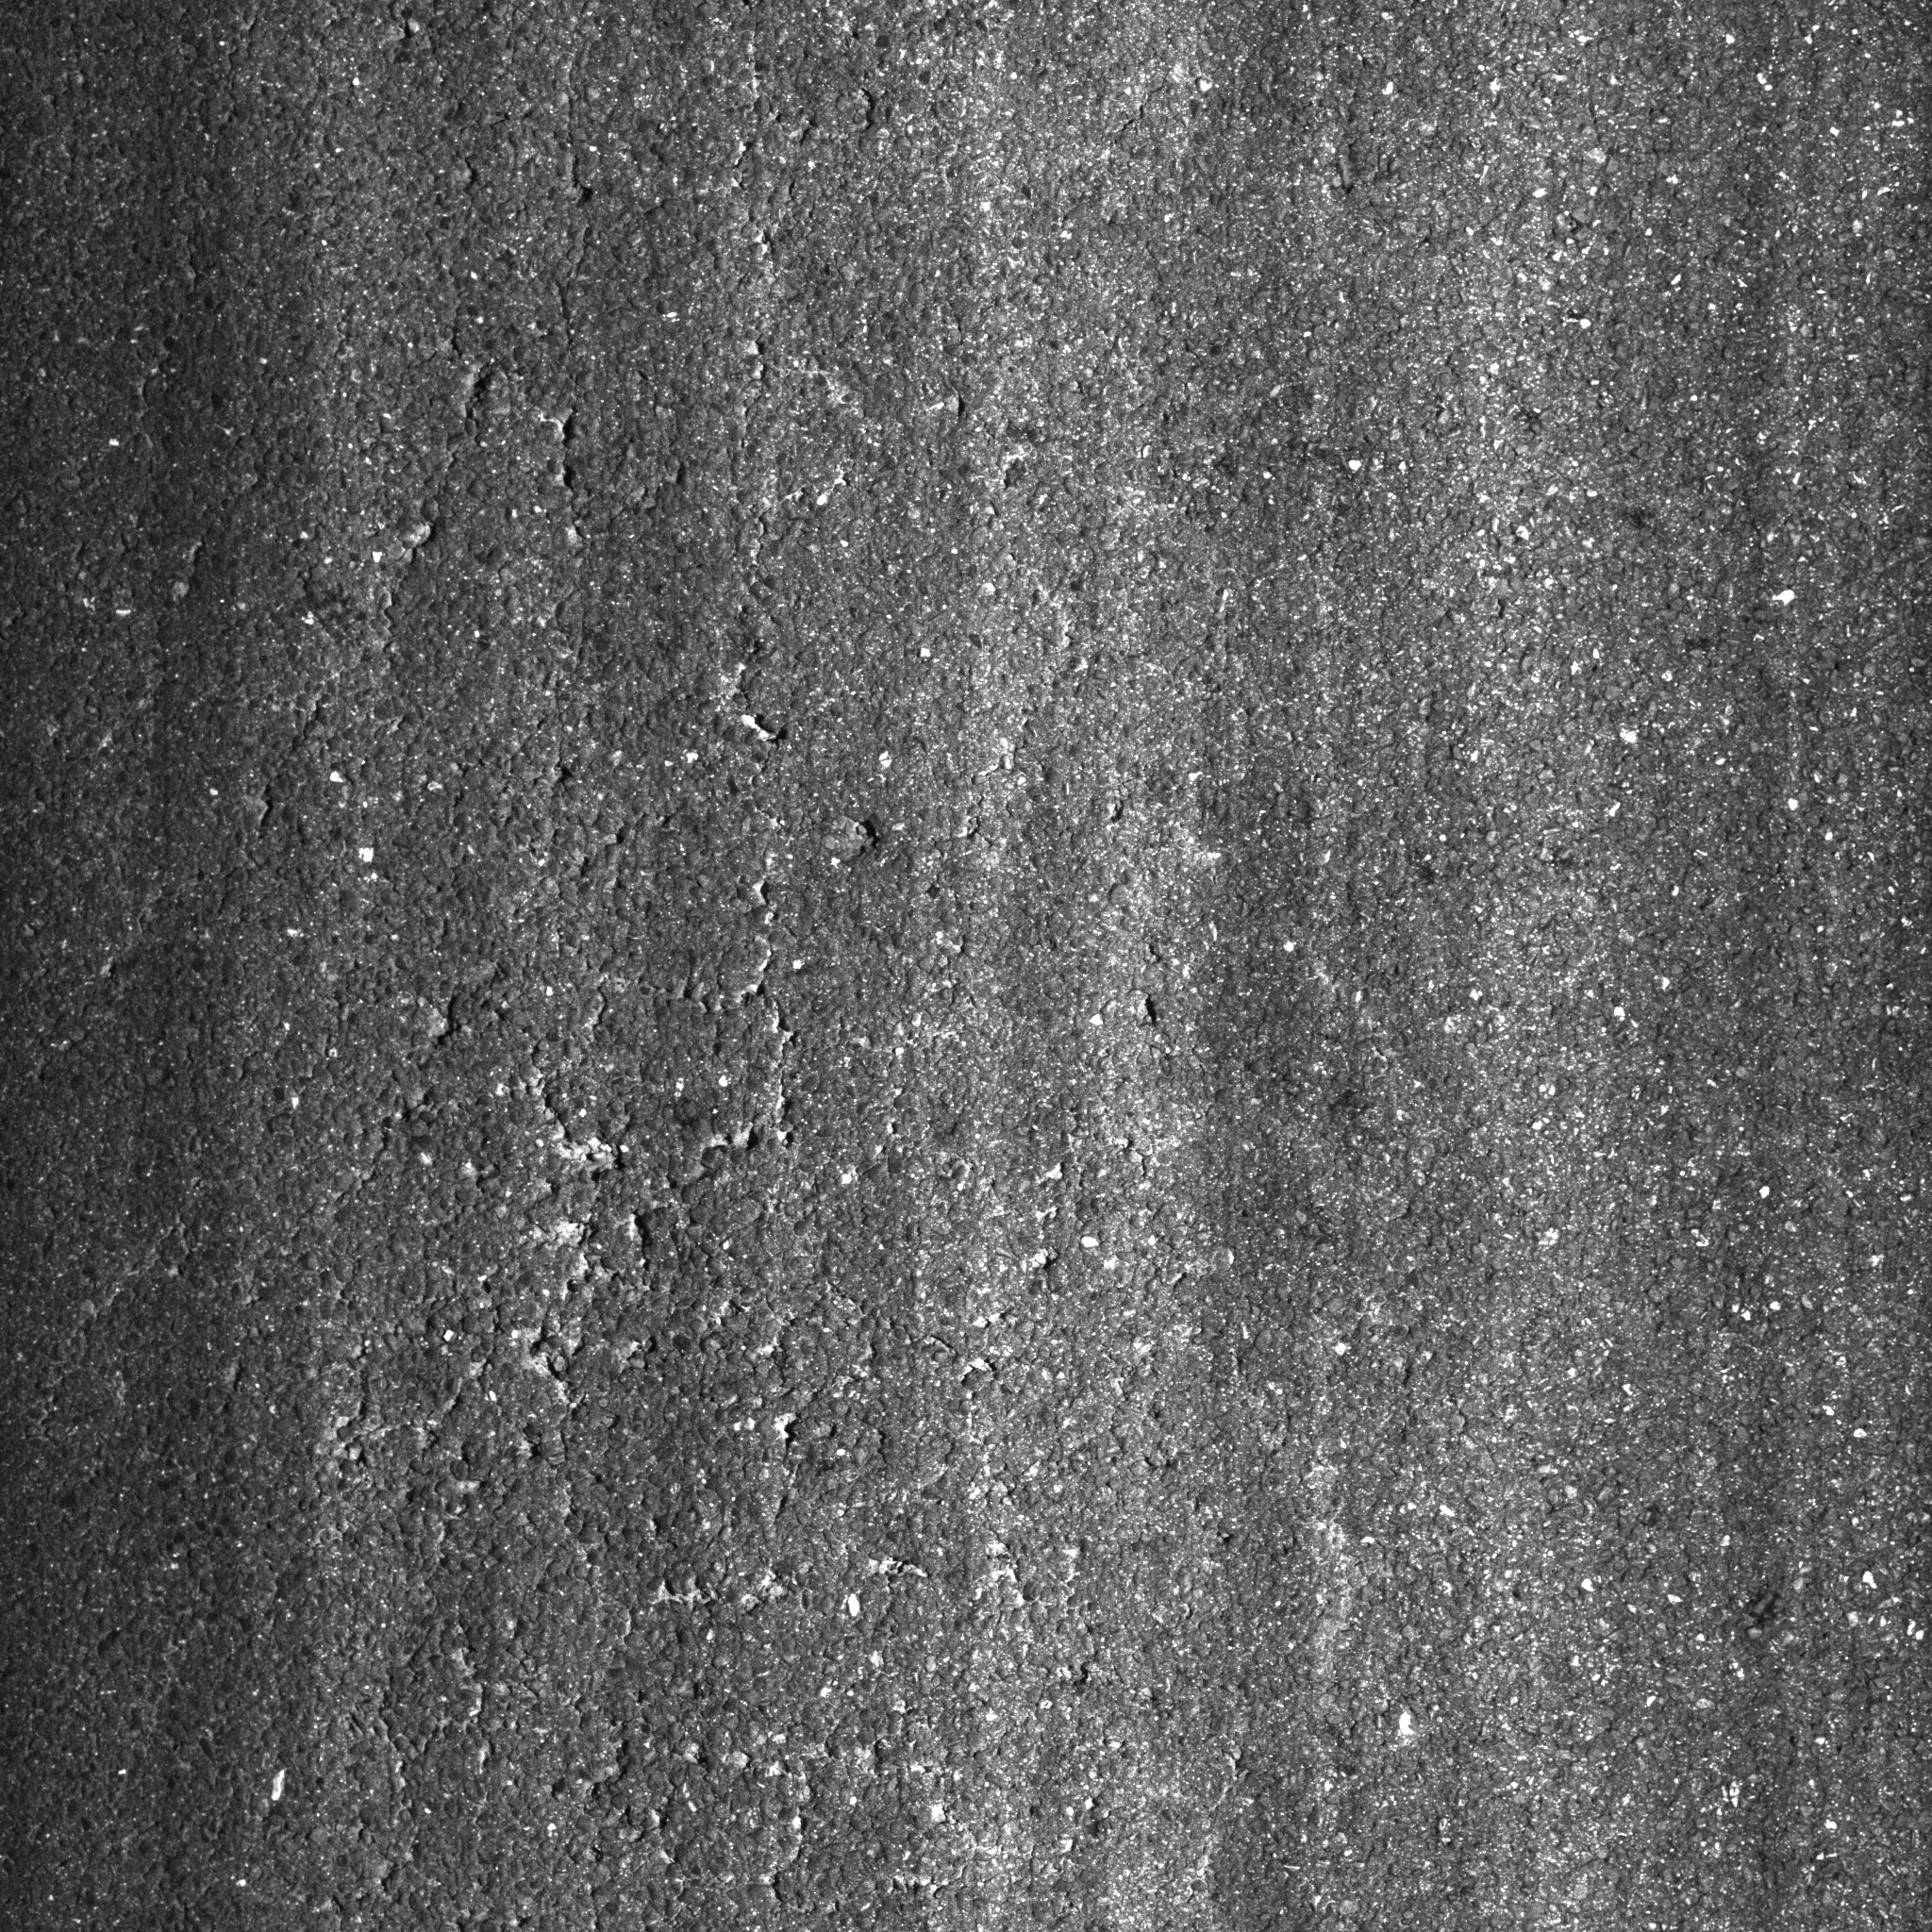alligator: (193, 251, 1240, 1932)
